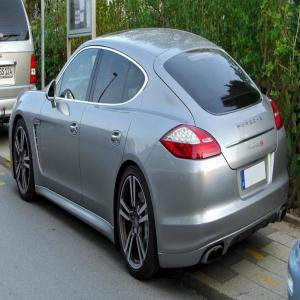Vehicle-registration-plate: (242, 162, 267, 191)
